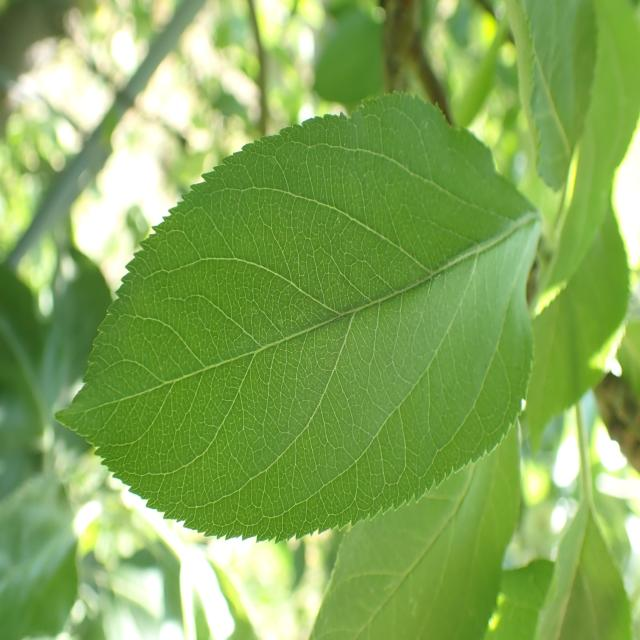healthy: (53, 91, 544, 545), (309, 416, 523, 640), (512, 0, 598, 195), (534, 503, 634, 640)
